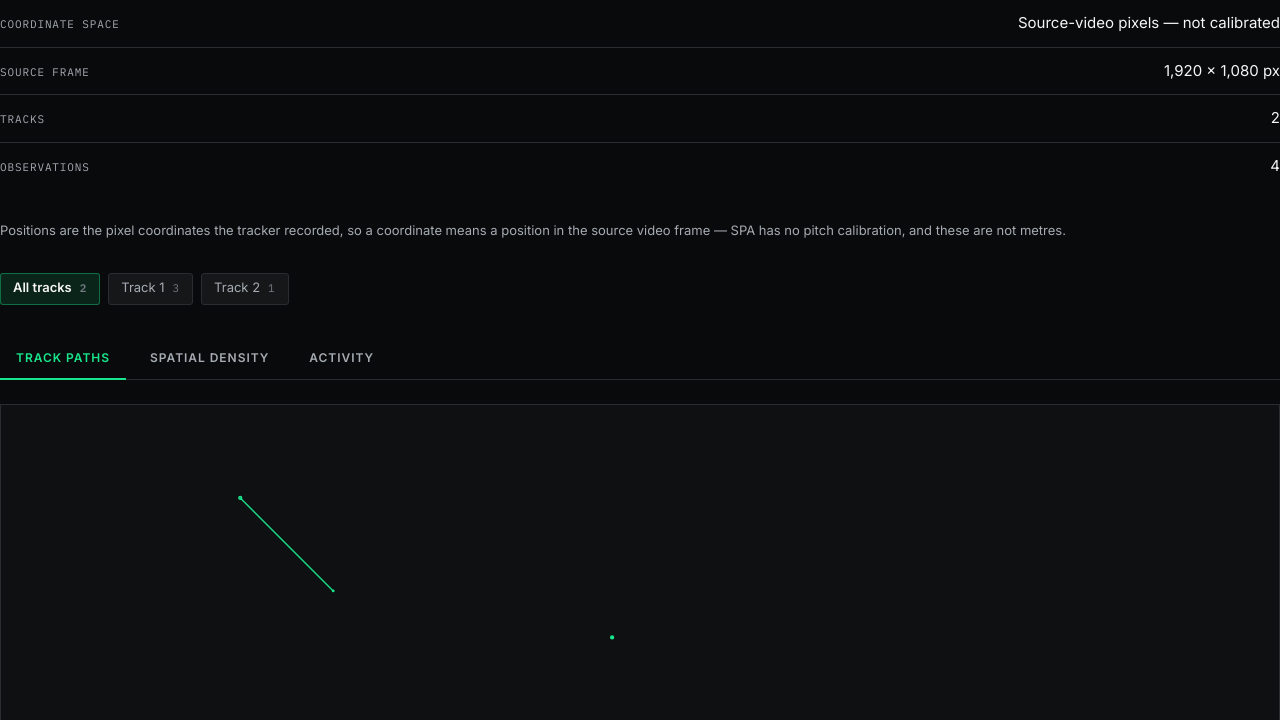
it: AnalysisVisualizationPanel › selects a track and shows its metrics without refetching
Click the button "Track 1 3" at [151, 288], box [108,272,193,304]
(page scrolled)
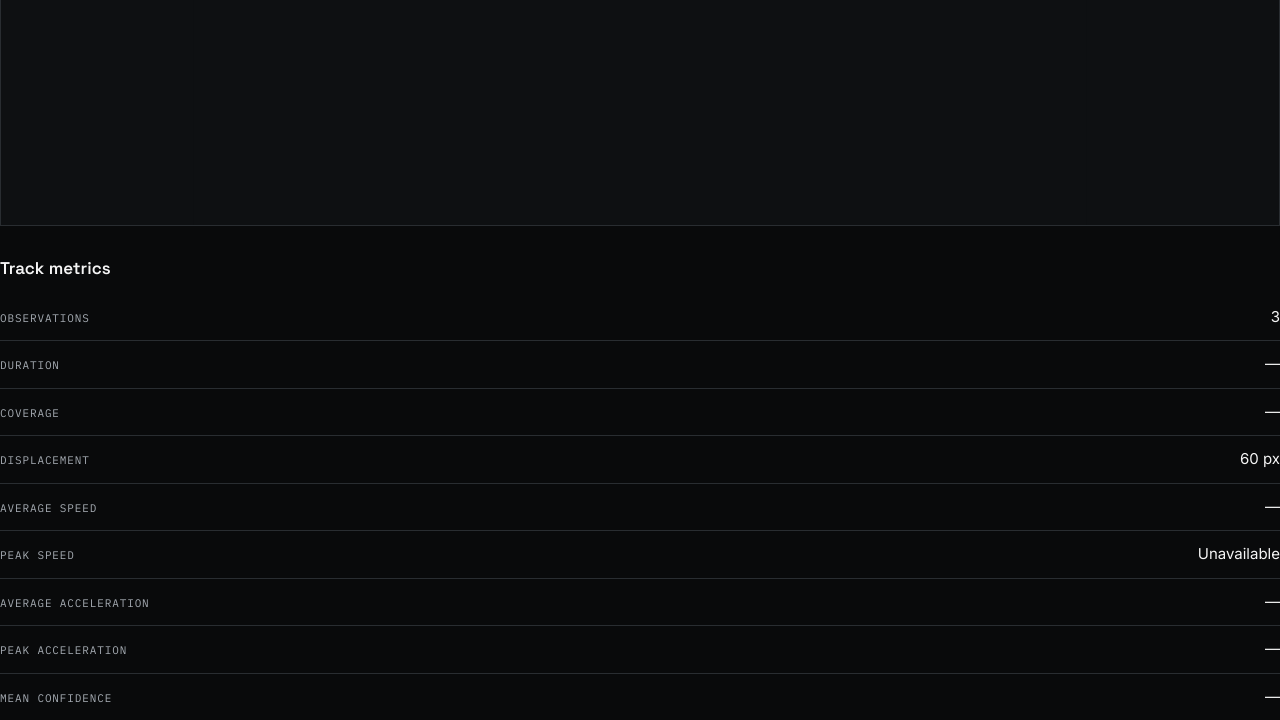
Expected: the text "60 px" is shown, [1240,448,1279,471]
Expected: the text "Unavailable" is shown, [1198,543,1279,566]
